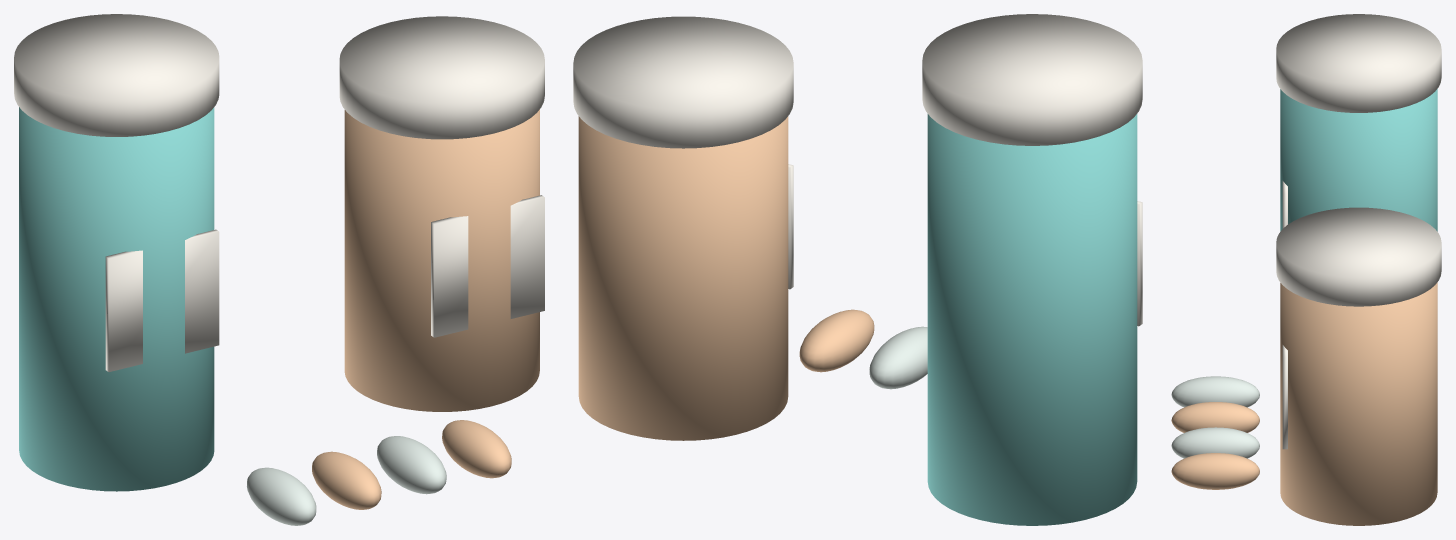
Rendered from nutrition-supplements.glb.
The picture shows the model from 3 angles, left to right: view 1: azimuth 30°, elevation 25°; view 2: azimuth 150°, elevation 25°; view 3: azimuth 270°, elevation 25°; orthographic projection. The views are drawn at different scales.
Visible parts, largest first — view 1: static #49bdb4, static #eee5d3, static #f2a066, static #c7ddd2; view 2: static #49bdb4, static #f2a066, static #eee5d3, static #c7ddd2; view 3: static #f2a066, static #eee5d3, static #49bdb4, static #c7ddd2.
Part boxes in pixels (left/top/right/bottom): static #49bdb4: left=19, top=107, right=214, bottom=491; static #eee5d3: left=14, top=14, right=544, bottom=371; static #f2a066: left=312, top=109, right=539, bottom=509; static #c7ddd2: left=247, top=436, right=446, bottom=525; static #49bdb4: left=927, top=114, right=1137, bottom=525; static #f2a066: left=578, top=116, right=874, bottom=440; static #eee5d3: left=573, top=14, right=1142, bottom=326; static #c7ddd2: left=869, top=326, right=927, bottom=389; static #f2a066: left=1171, top=282, right=1437, bottom=525; static #eee5d3: left=1276, top=14, right=1441, bottom=449; static #49bdb4: left=1280, top=89, right=1437, bottom=231; static #c7ddd2: left=1171, top=376, right=1259, bottom=458.
Bounding box in the file's own units: 0.232 × 0.182 × 0.134.
